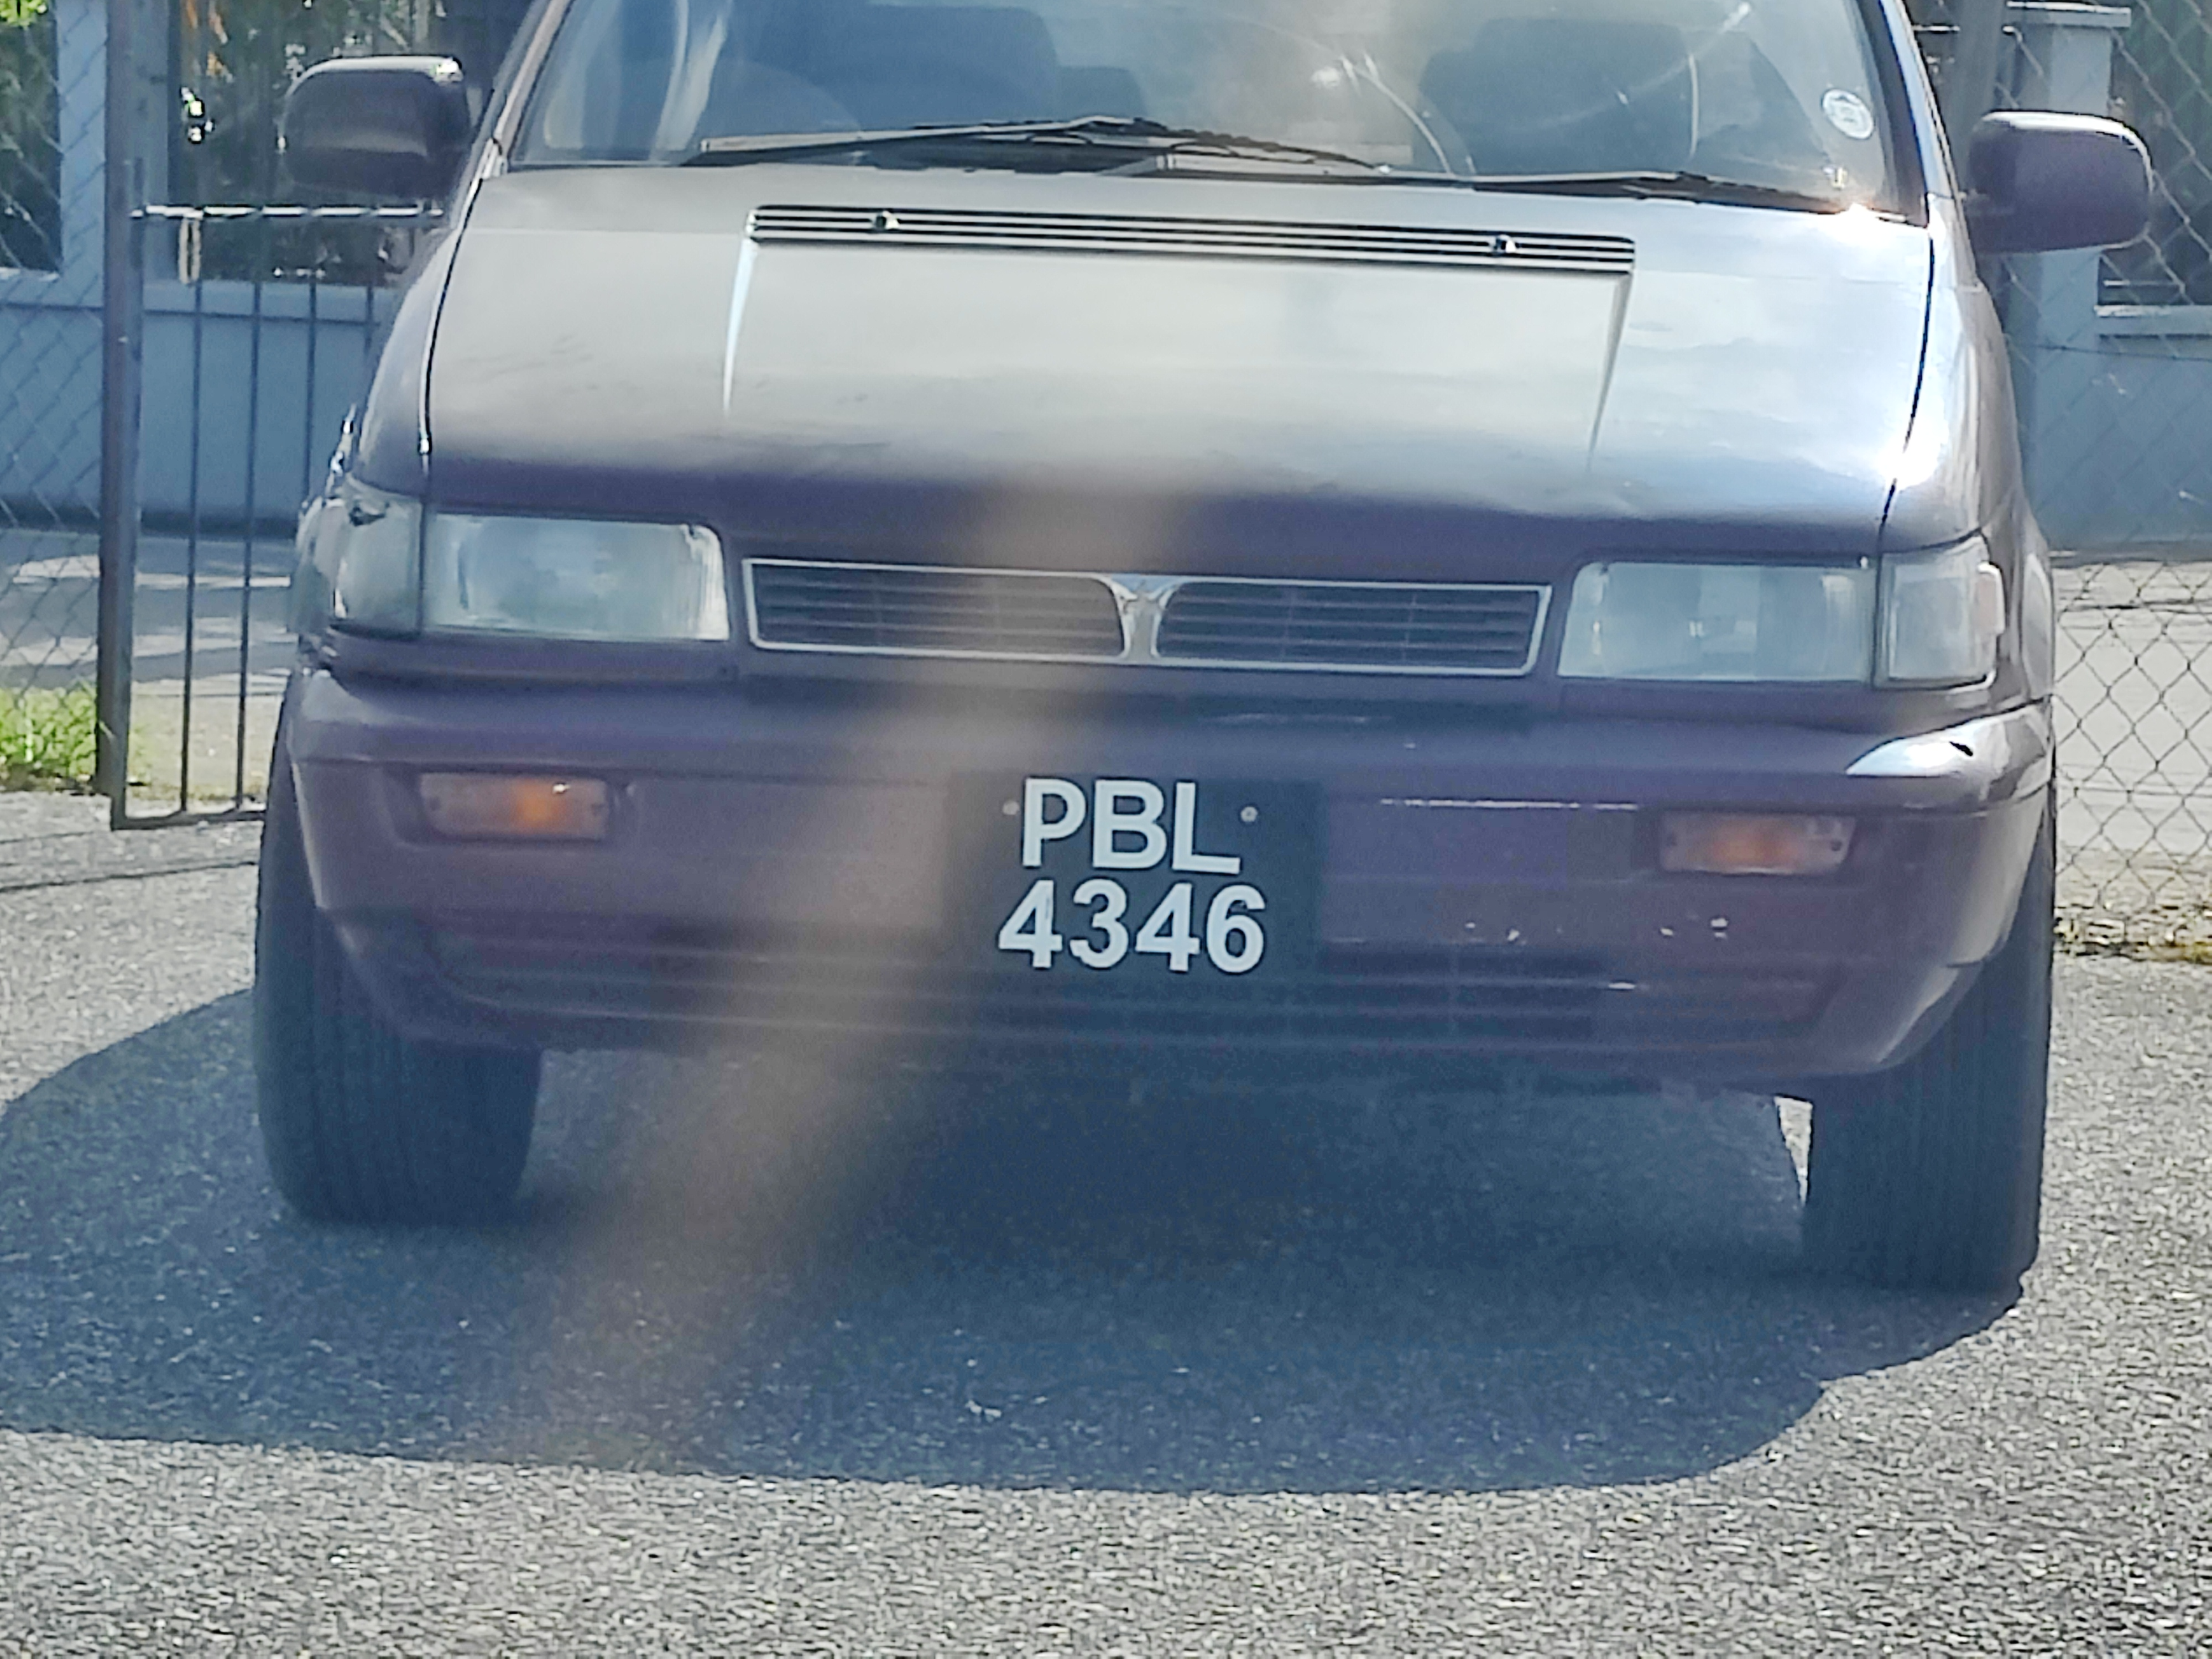License-Plate: (943, 769, 1315, 983)
